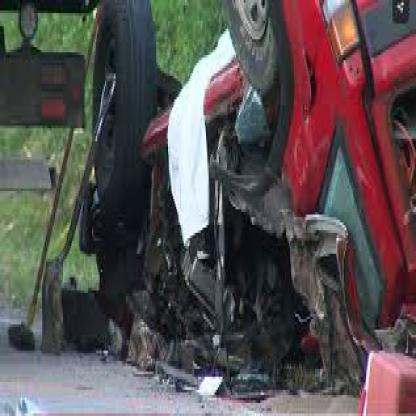accident: (83, 3, 416, 394)
